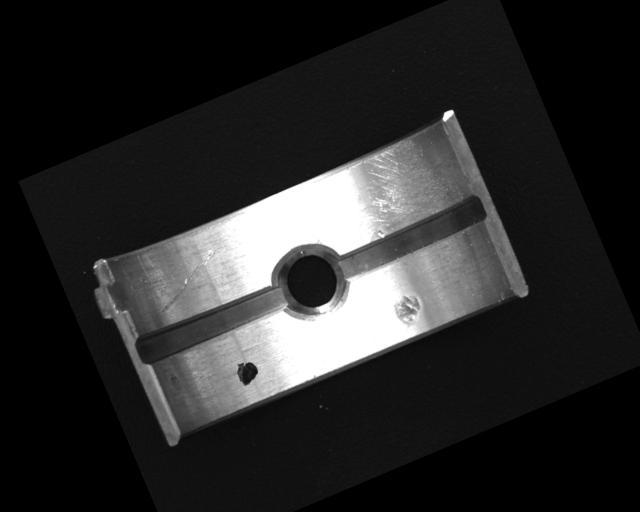blot: (232, 356, 263, 388)
bruise: (389, 290, 427, 332)
gap: (328, 191, 491, 284), (133, 281, 288, 369)
hole: (264, 233, 357, 330)
nick: (145, 246, 230, 314)
scratch: (301, 125, 467, 259)
